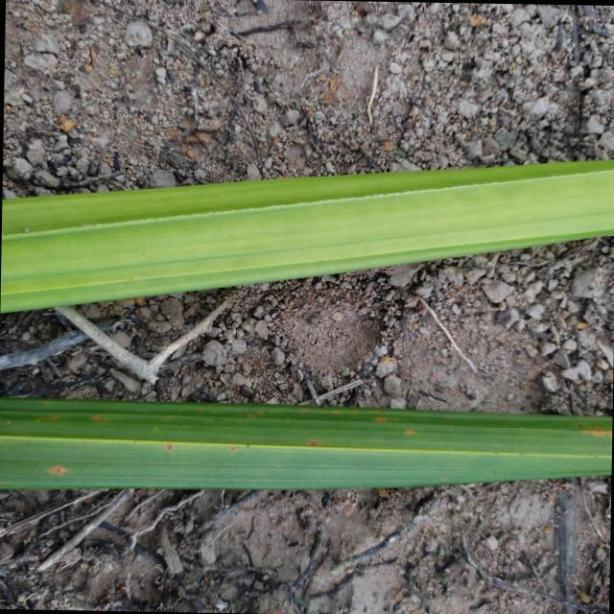nitrogen: (0, 160, 614, 313), (0, 391, 614, 488)
